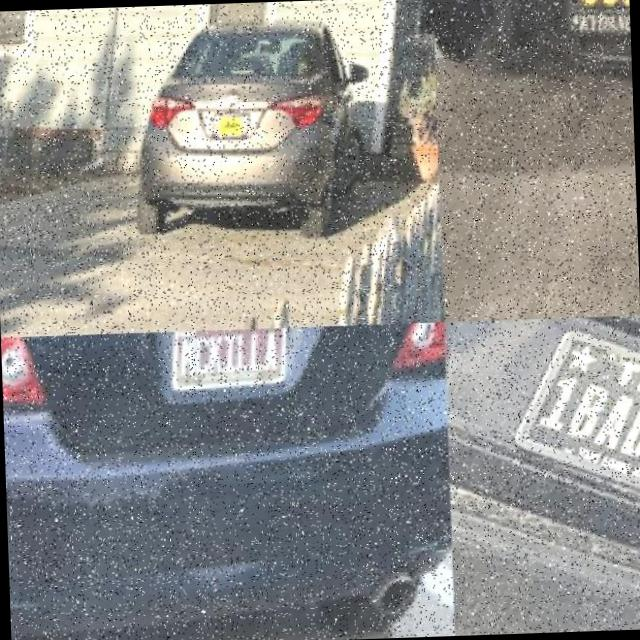LicensePlate: (510, 334, 640, 496), (170, 326, 288, 398), (212, 121, 250, 147)
